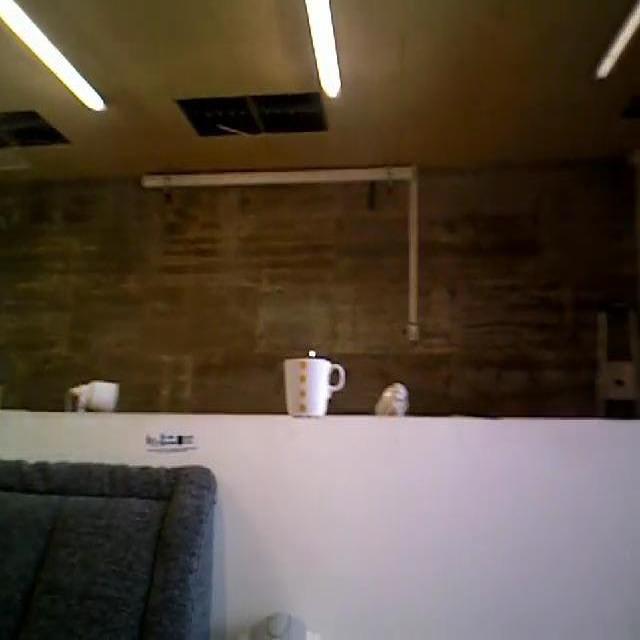cup: (278, 347, 348, 420)
